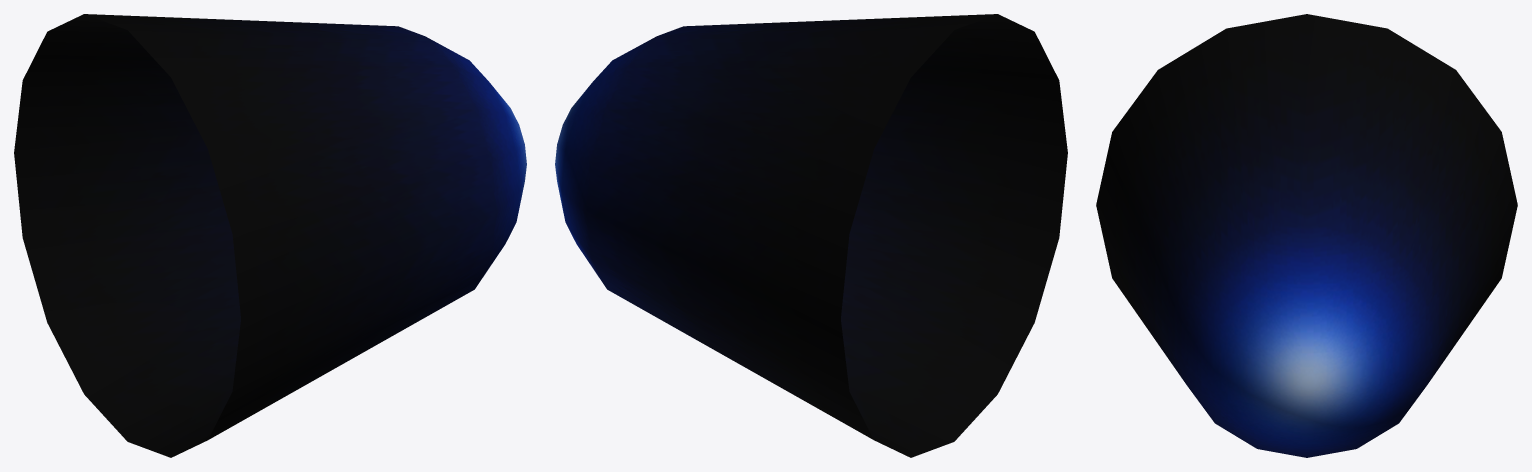
File: Beam22.fbx
3 renders of one model, left to right at view 1: azimuth 30°, elevation 25°; view 2: azimuth 150°, elevation 25°; view 3: azimuth 270°, elevation 25°, orthographic. The views are drawn at different scales.
Parts seen in each view (by area): view 1: Beam22; view 2: Beam22; view 3: Beam22.
Boxes of the visible parts, x1=… form: Beam22: x1=14, y1=14, x2=526, y2=457; Beam22: x1=555, y1=14, x2=1067, y2=457; Beam22: x1=1096, y1=14, x2=1517, y2=457.
Bounding box in the file's own units: 48.78 × 49.37 × 49.37.
Materials: 1 (1 with a texture image).
